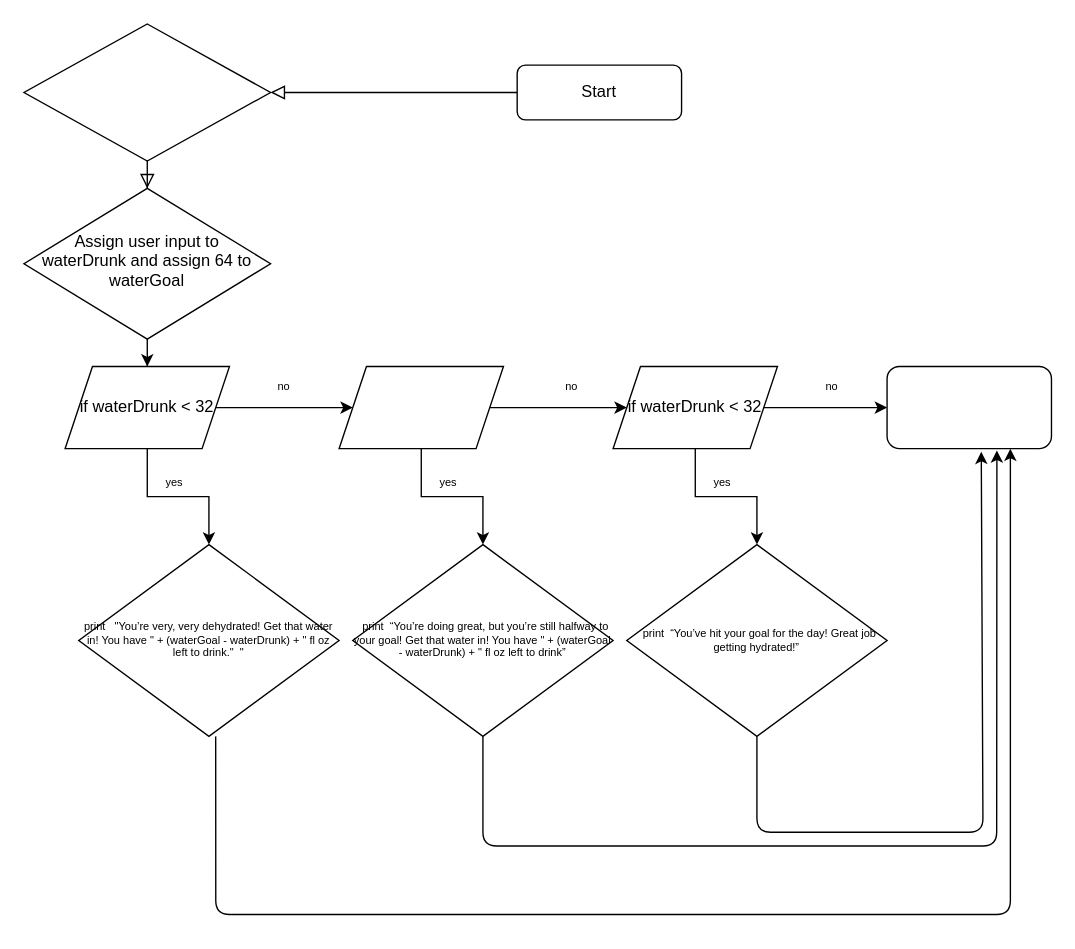
The diagram is 1075 pixels wide and 949 high, and some of its shapes have lost their labels. Each missing label, with the box of its shape:
End: (886, 365, 1051, 449)
if 32< waterDrunk <64: (338, 365, 503, 449)
Prompt user for input: (23, 23, 271, 161)
